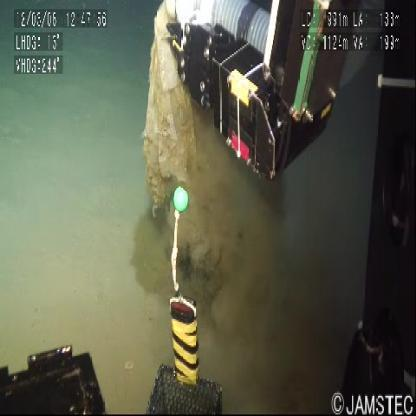Rác: (143, 3, 196, 204)
